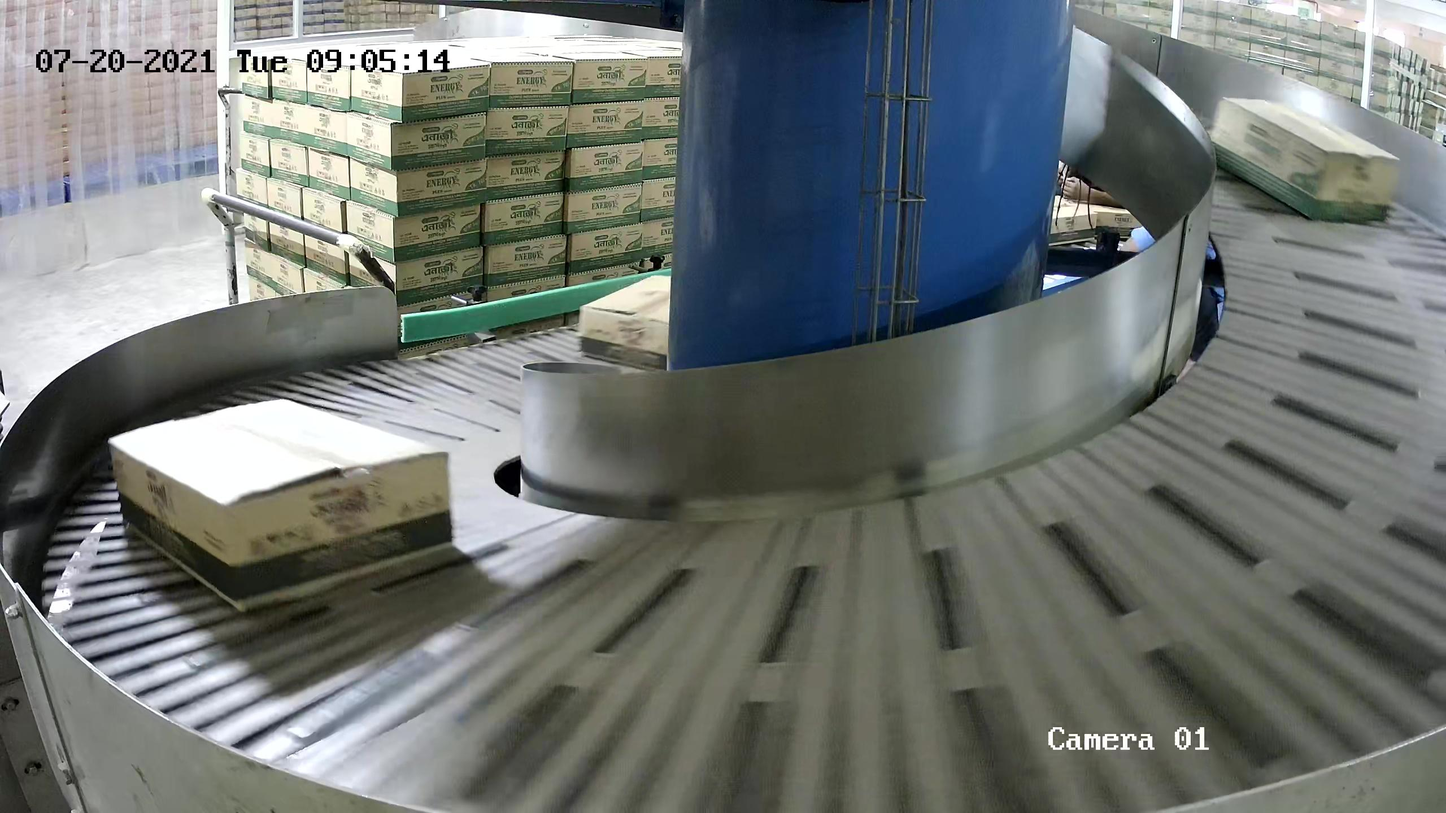Box: (106, 396, 455, 611), (1210, 96, 1400, 222), (576, 274, 670, 371)
